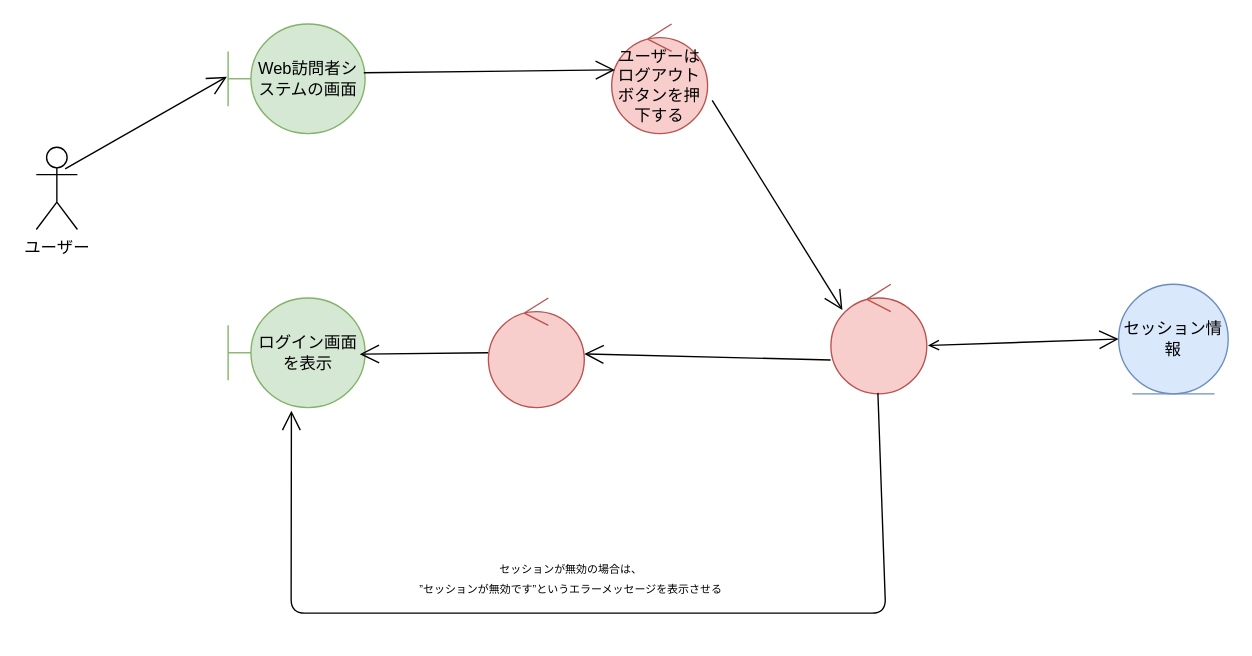
This 1252x656 diagram has some shape labels left out. Here are the shapes that lost their labels. From the top down, the box of each, then its label:
(487, 297, 584, 408): ログアウト完了画面を表示する
(830, 283, 927, 394): セッション情報を削除
